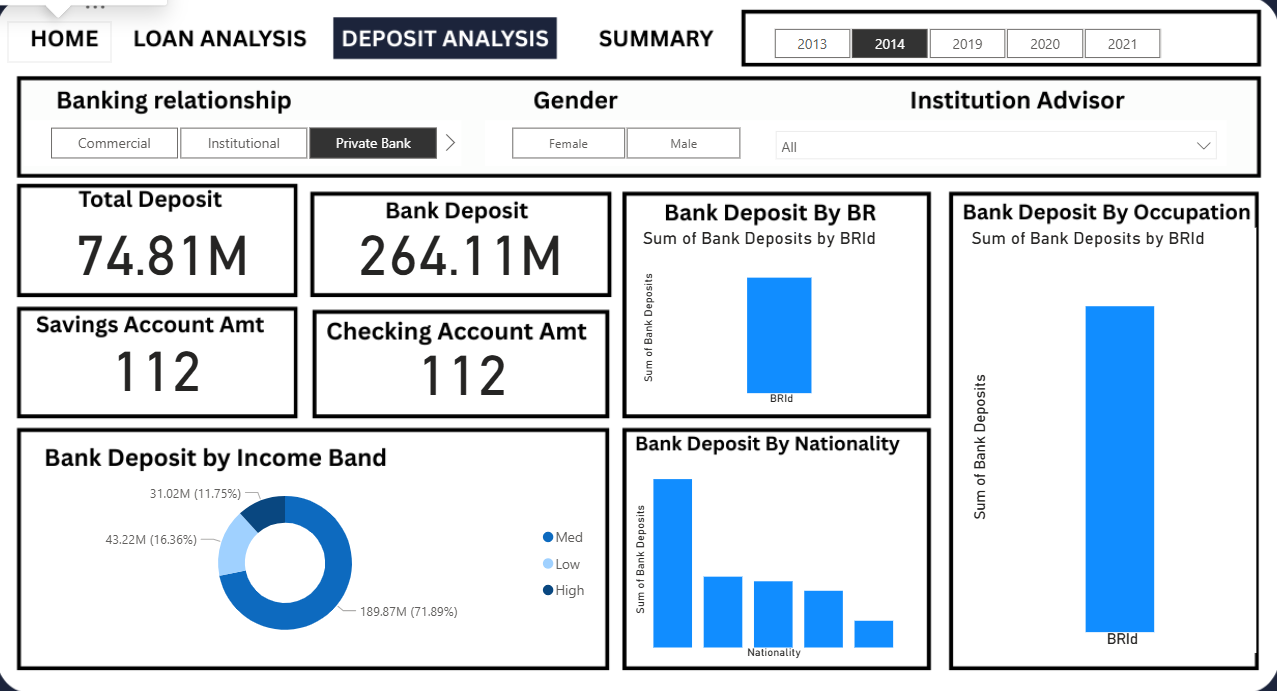

What the dashboard file says about the page in this screenshot:
{"tool":"powerbi","page":{"name":"Deposit Analysis","canvas":[1280,720],"ordinal":3},"visuals":[{"type":"slicer","fields":{"Values":["Banking.year_of_joining"]},"box":[745.1,50.8,422.6,42.5],"z":0},{"type":"actionButton","box":[31.4,50.7,100.1,39.8],"z":1000},{"type":"actionButton","box":[377.6,50.7,243.7,39.8],"z":2000},{"type":"actionButton","box":[590.1,45.3,140,39.8],"z":3000},{"type":"card","fields":{"Values":["Banking.Total Deposit"]},"box":[64.5,249.7,233.3,60.4],"z":4000},{"type":"card","fields":{"Values":["Banking.Saving Accounts"]},"box":[53.5,359.5,244.3,65.9],"z":5000},{"type":"card","fields":{"Values":["Sum(Banking.Bank Deposits)"]},"box":[345.8,249.7,244.3,60.4],"z":6000},{"type":"card","fields":{"Values":["Banking.checking_Accounts"]},"box":[347.2,365,245.6,61.7],"z":7000},{"type":"donutChart","fields":{"Category":["Banking.Income_band"],"Y":["Sum(Banking.Bank Deposits)"]},"box":[46.7,485.8,555.7,174.3],"z":8000},{"type":"columnChart","fields":{"Category":["Banking.BRId"],"Y":["Sum(Banking.Bank Deposits)"]},"box":[639.5,249.7,260.7,175.6],"z":9000},{"type":"columnChart","fields":{"Y":["Sum(Banking.Bank Deposits)"],"Category":["Banking.Nationality"]},"box":[632.6,470.7,260.7,200.3],"z":10000},{"type":"columnChart","fields":{"Category":["Banking.BRId"],"Y":["Sum(Banking.Bank Deposits)"]},"box":[956.4,249.7,279.9,410.3],"z":11000},{"type":"slicer","fields":{"Values":["Banking.BRId"]},"box":[46.7,145.5,422.6,43.9],"z":12000},{"type":"slicer","fields":{"Values":["Banking.GenderId"]},"box":[492.6,145.5,270.3,43.9],"z":13000},{"type":"slicer","fields":{"Values":["Banking.IAId"]},"box":[763,145.5,446,43.9],"z":14000},{"type":"actionButton","box":[144.1,41.2,181.1,48],"z":15000}]}

Visuals, with their boxes on the page's 1280x720 design canvas (x1, y1, x2, y2). These are canvas units, not pixel positions in the 1277x691 screenshot, which may show the page scaled, cropped or inside an application window:
slicer - Banking.year_of_joining: 745/51/1168/93
actionButton: 31/51/132/90
actionButton: 378/51/621/90
actionButton: 590/45/730/85
card - Banking.Total Deposit: 64/250/298/310
card - Banking.Saving Accounts: 54/360/298/425
card - Sum(Banking.Bank Deposits): 346/250/590/310
card - Banking.checking_Accounts: 347/365/593/427
donutChart - Banking.Income_band x Sum(Banking.Bank Deposits): 47/486/602/660
columnChart - Banking.BRId x Sum(Banking.Bank Deposits): 640/250/900/425
columnChart - Sum(Banking.Bank Deposits) x Banking.Nationality: 633/471/893/671
columnChart - Banking.BRId x Sum(Banking.Bank Deposits): 956/250/1236/660
slicer - Banking.BRId: 47/146/469/189
slicer - Banking.GenderId: 493/146/763/189
slicer - Banking.IAId: 763/146/1209/189
actionButton: 144/41/325/89
